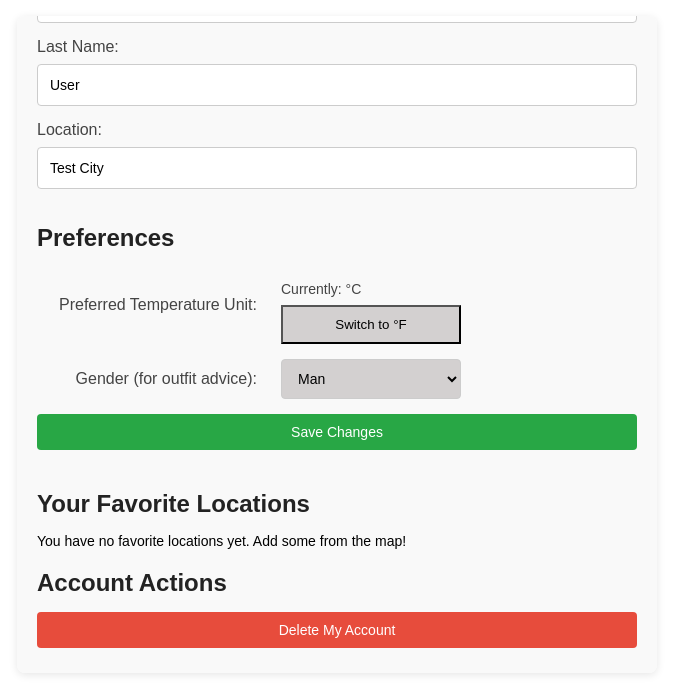
Test case: UserProfileDisplay Component › parses and displays last_name error on save failure
The image size is (675, 693).
(page scrolled)
Click the button "Save Changes" at (337, 432), box x1=37 y1=414 x2=637 y2=450
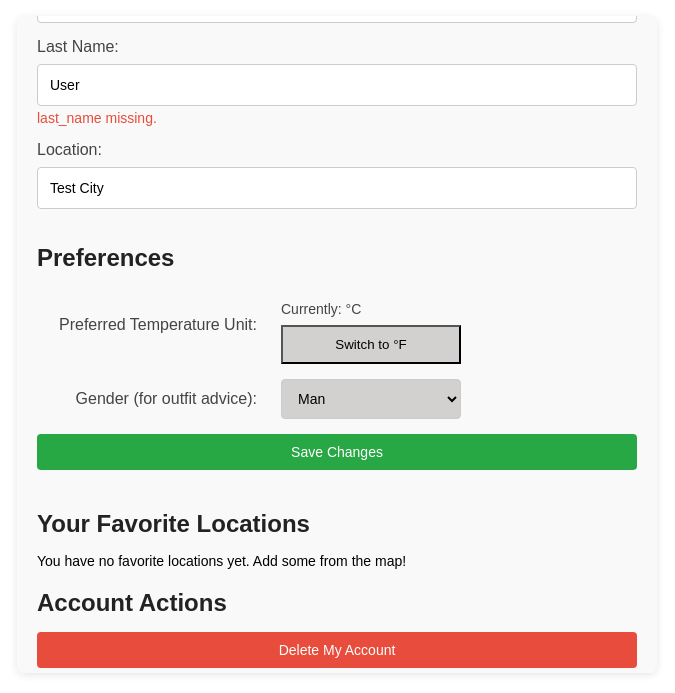
Check: the text "last_name missing." is shown, box x1=37 y1=110 x2=157 y2=126
